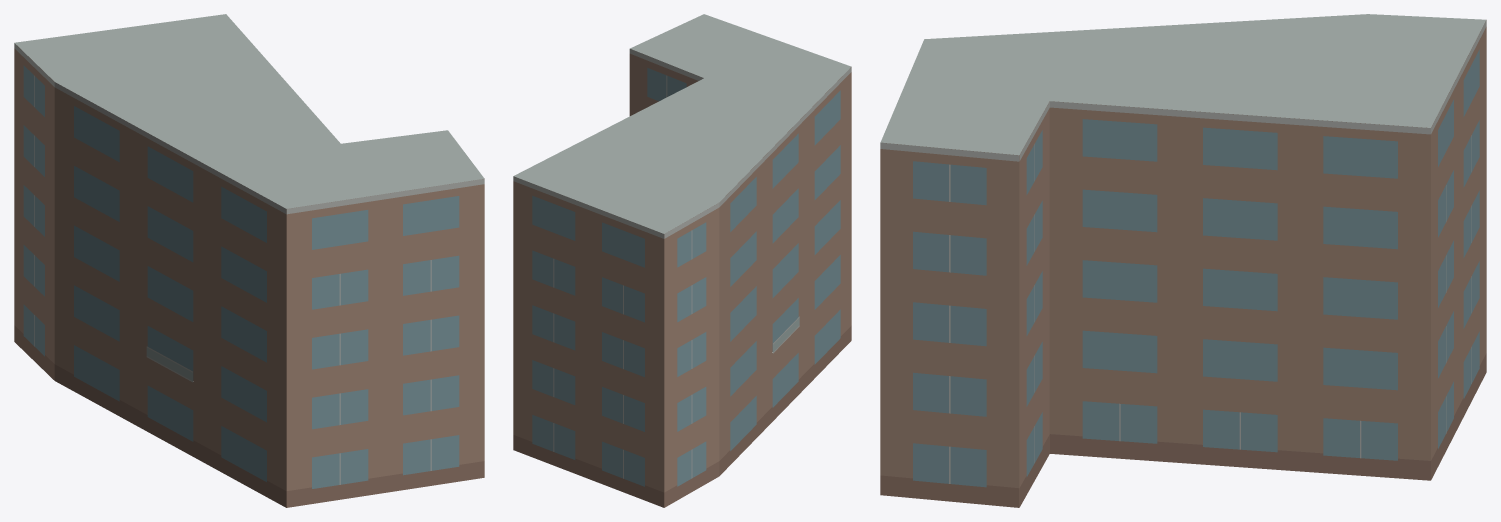
The model's file is survey-upis-32652608.glb.
3 renders of one model, left to right at view 1: azimuth 30°, elevation 25°; view 2: azimuth 150°, elevation 25°; view 3: azimuth 270°, elevation 25°, orthographic. The views are drawn at different scales.
Visible parts, largest first — view 1: survey-upis-32652608.tmp; view 2: survey-upis-32652608.tmp; view 3: survey-upis-32652608.tmp.
Boxes of the visible parts, x1,y1,x2,y2 form: survey-upis-32652608.tmp: (14,14,484,507); survey-upis-32652608.tmp: (513,14,851,507); survey-upis-32652608.tmp: (880,14,1486,507).
Size of the model in its own units: 11.52 by 13.4 by 20.89.
